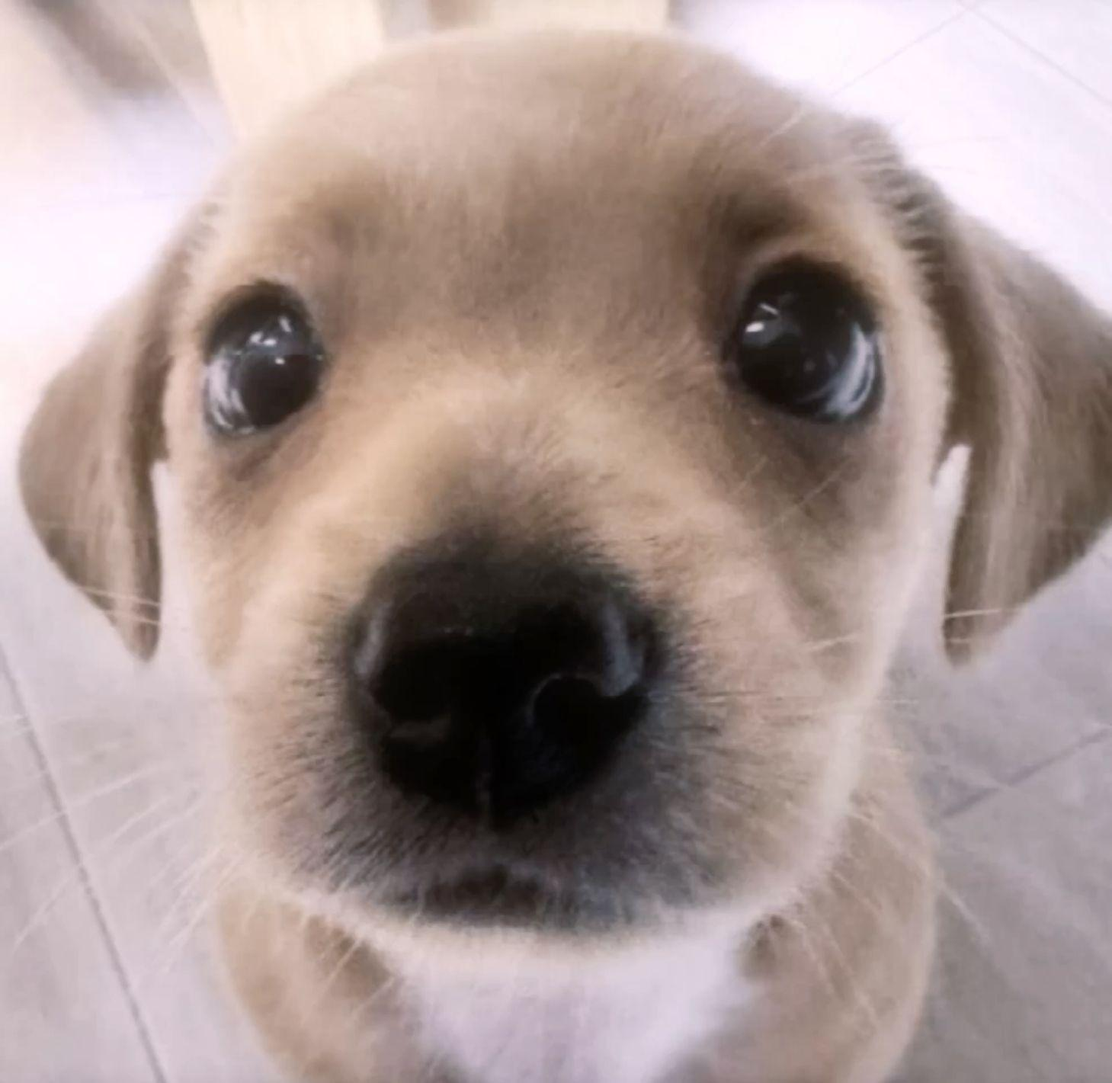puppy-dog: (11, 18, 1112, 1083)
